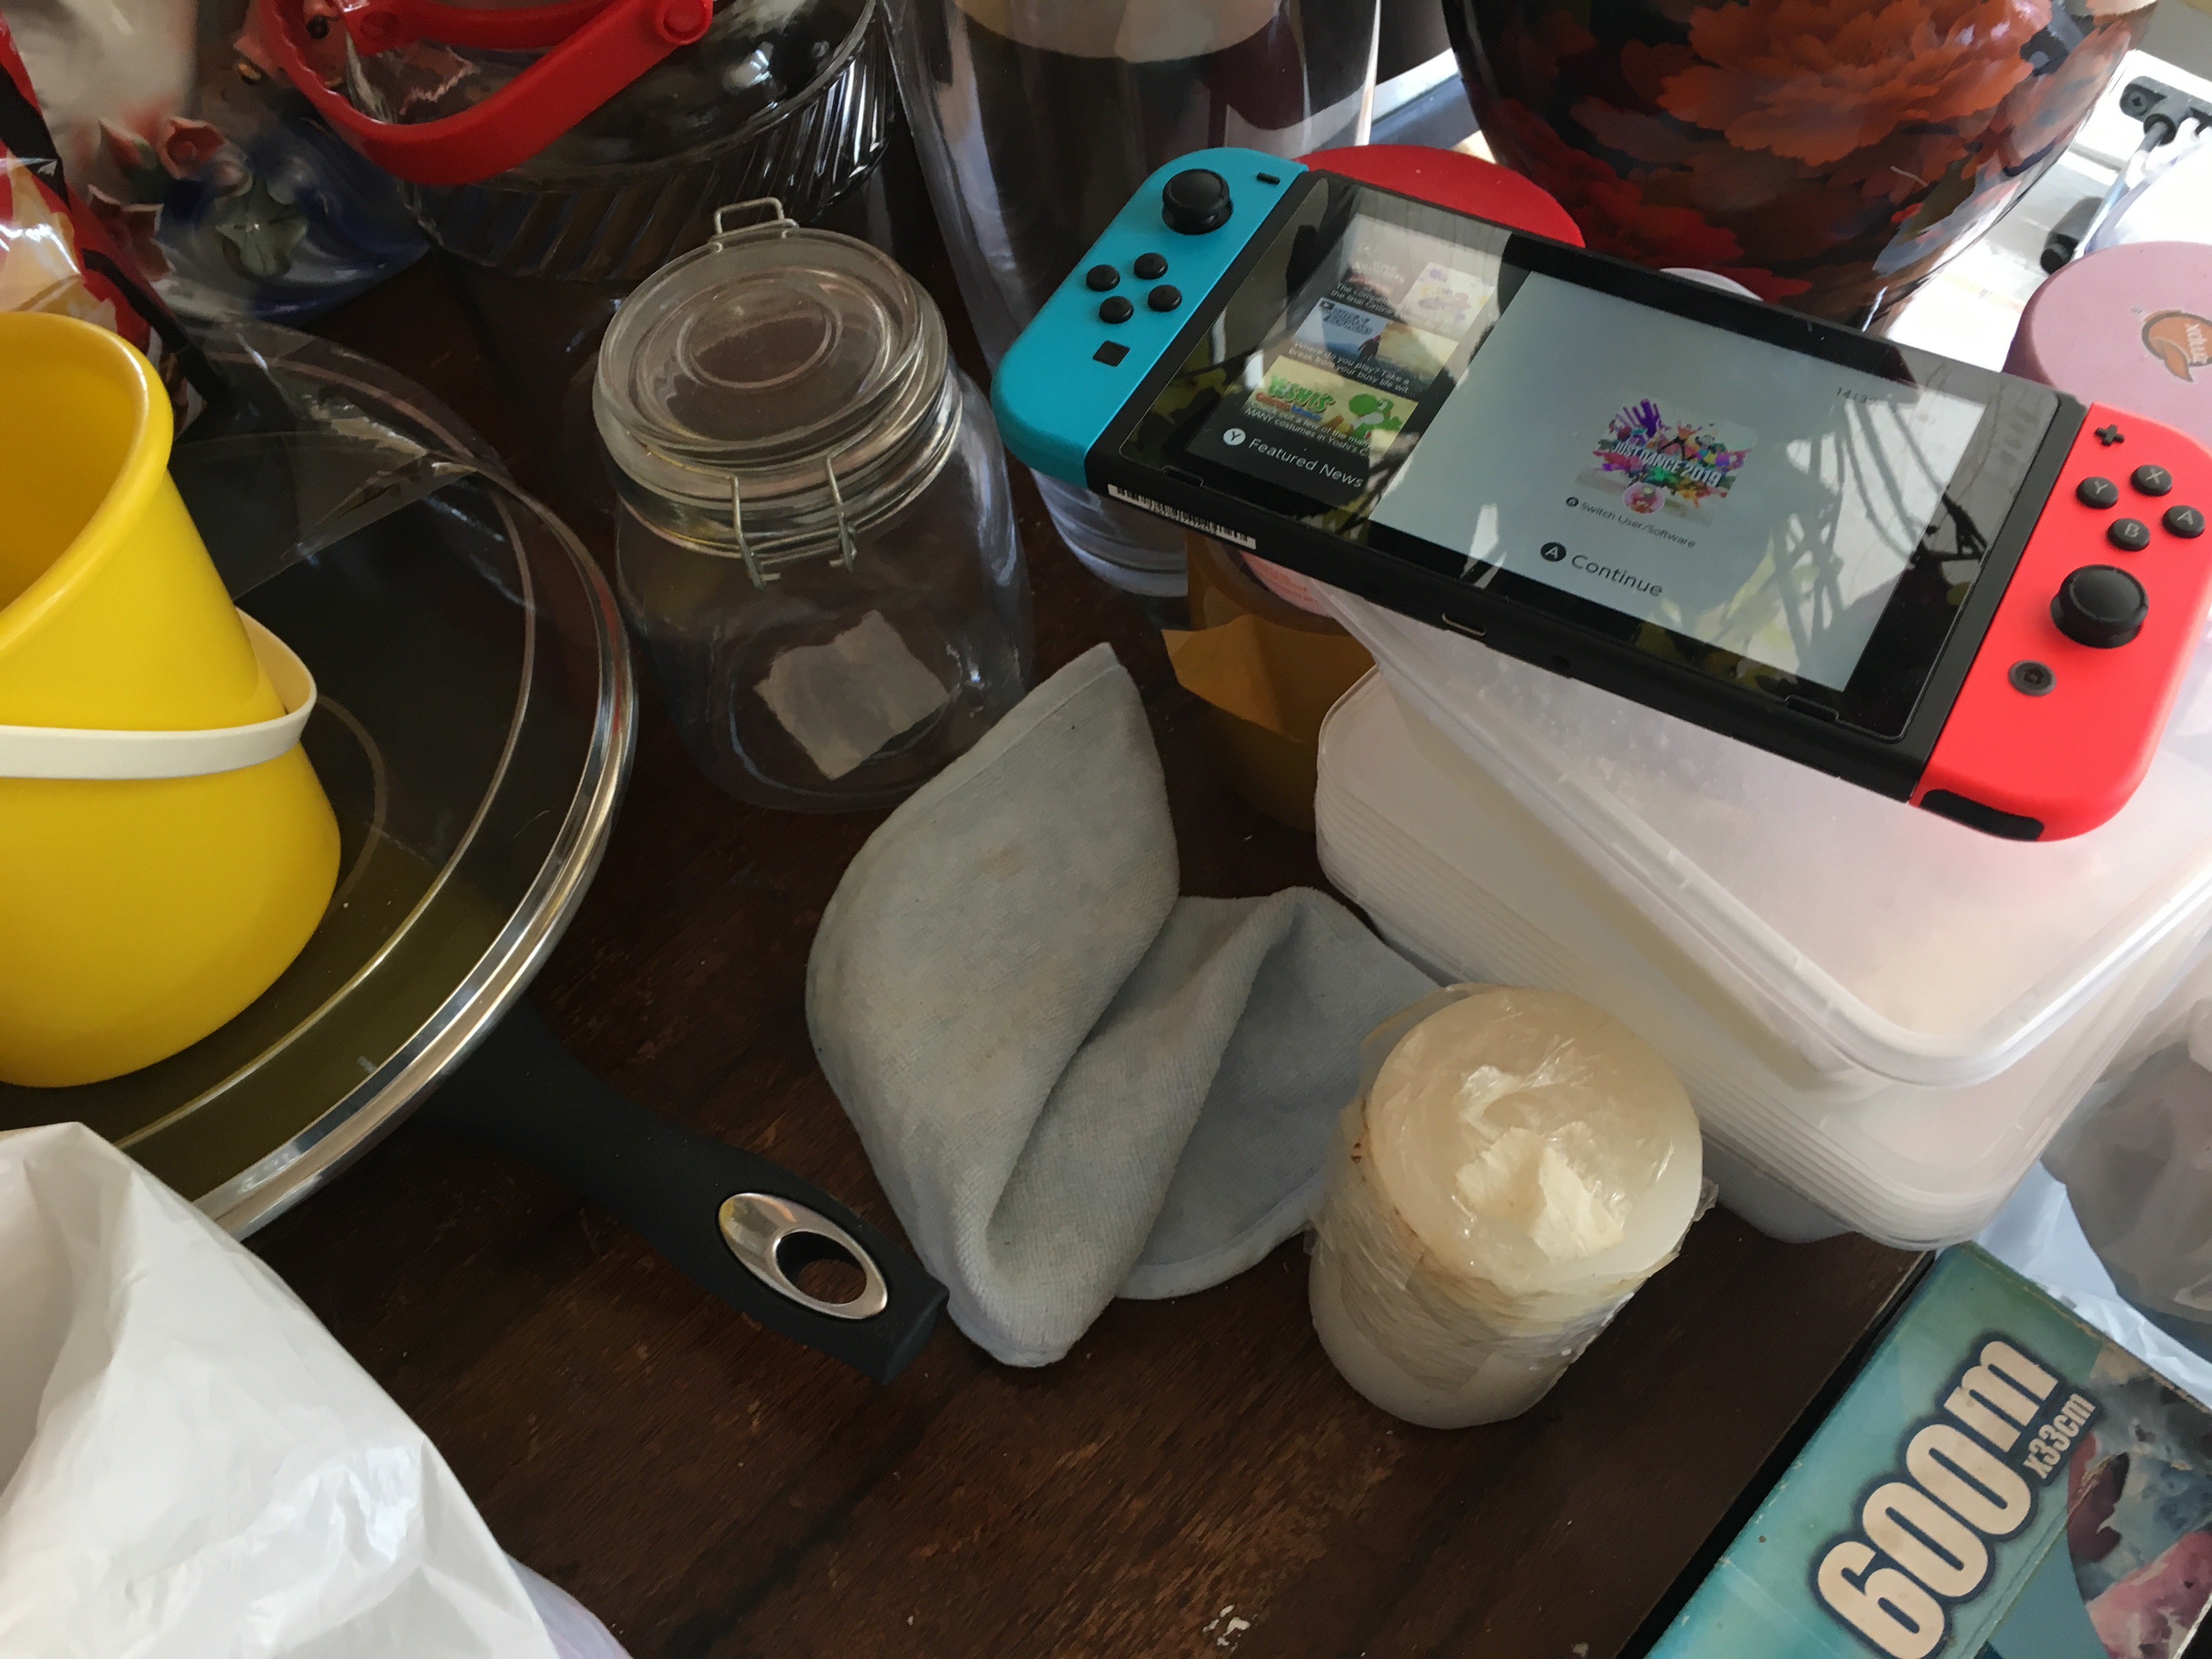NintendoSwitch: (967, 125, 2212, 854)
